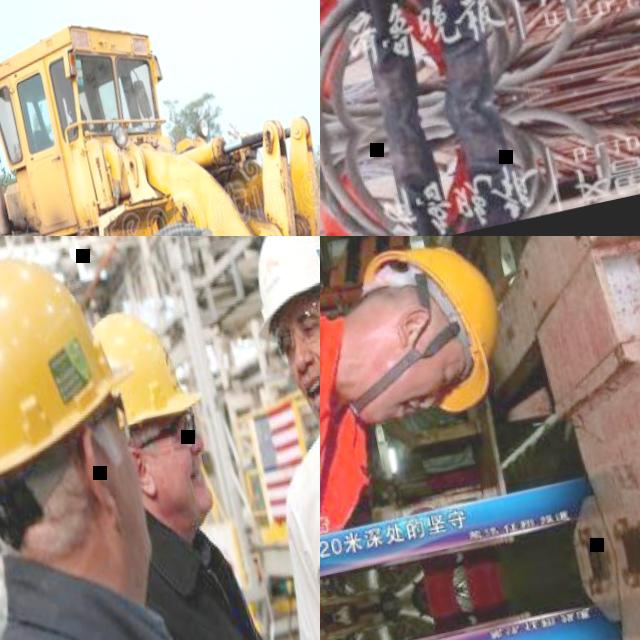Hardhat: (0, 236, 152, 481), (355, 236, 517, 427), (88, 296, 207, 429), (233, 236, 320, 343)
NO-Mask: (342, 321, 426, 431), (103, 436, 159, 572), (147, 448, 217, 530), (290, 336, 320, 439)
NO-Safety Vest: (136, 520, 306, 640), (0, 578, 255, 640)
Person: (0, 236, 251, 640), (320, 236, 548, 630), (84, 282, 320, 640), (320, 0, 566, 218), (207, 236, 320, 640), (320, 0, 453, 119)
vehicle: (0, 0, 320, 236)
